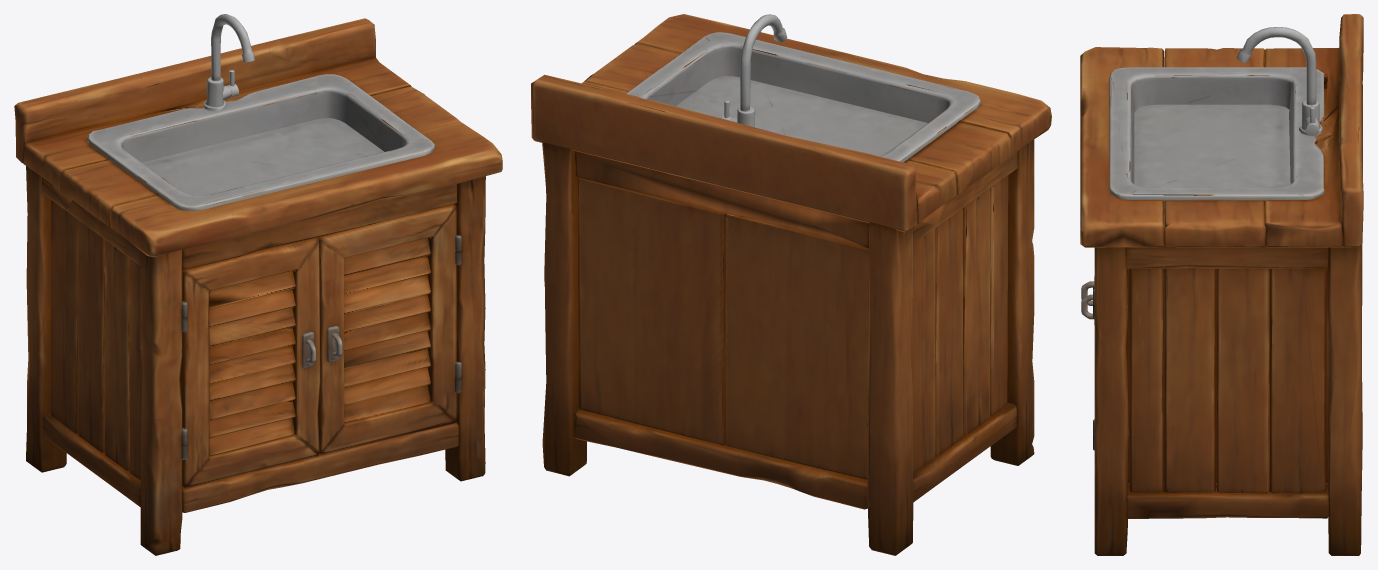
File: Sink.fbx
The picture shows the model from 3 angles, left to right: view 1: azimuth 30°, elevation 25°; view 2: azimuth 150°, elevation 25°; view 3: azimuth 270°, elevation 25°; orthographic projection. The views are drawn at different scales.
Visible parts, largest first — view 1: geometry_0; view 2: geometry_0; view 3: geometry_0.
Part boxes in pixels (box(x1,y1,x2,y2)): geometry_0: box(14, 14, 502, 555); geometry_0: box(531, 14, 1051, 555); geometry_0: box(1080, 14, 1363, 555).
Bounding box in the file's own units: 81.35 × 95.31 × 54.79.
Materials: 1 (1 with a texture image).
